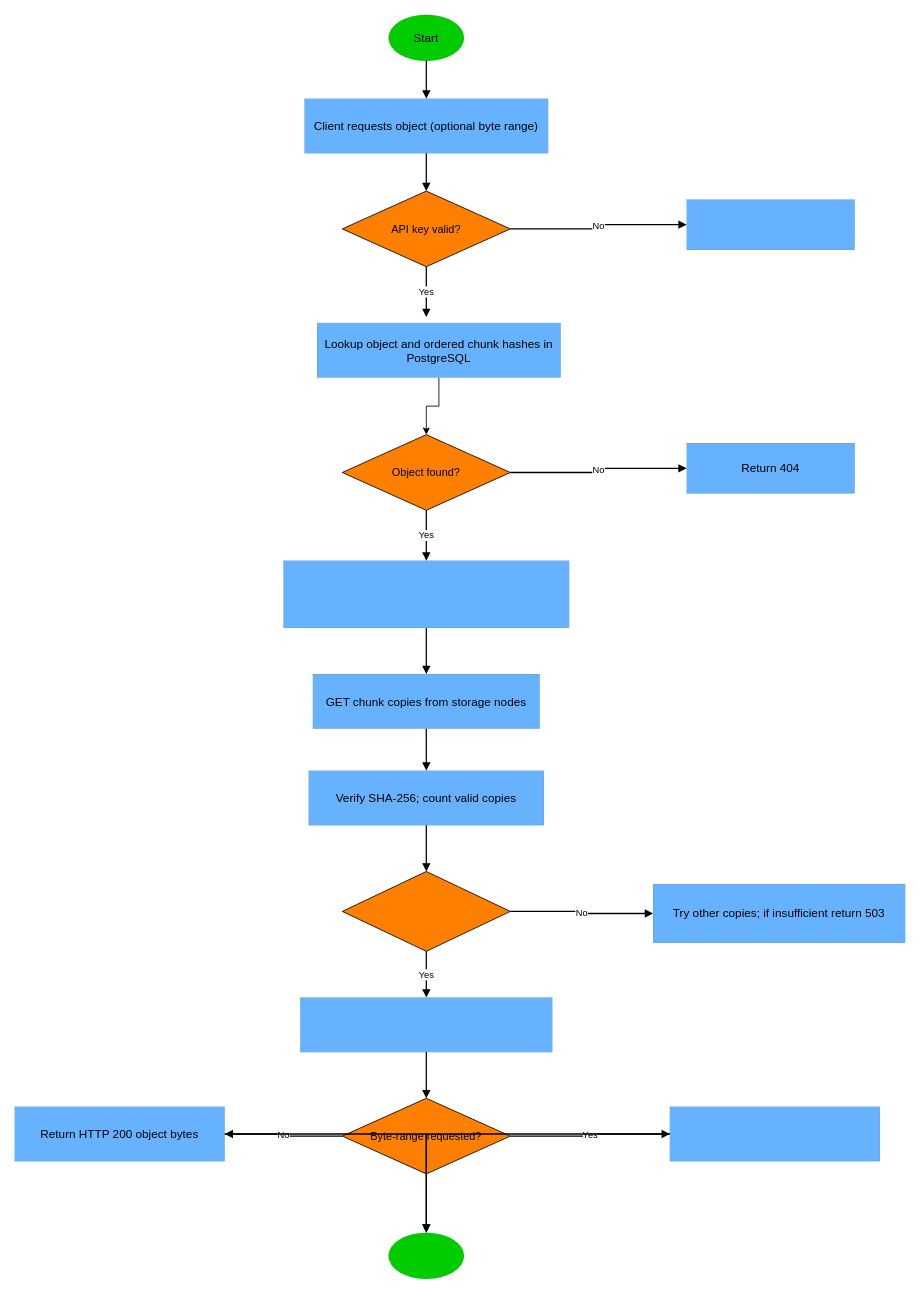
The diagram is 919 pixels wide and 1293 high, and some of its shapes have lost their labels. Each missing label, with the centre of its shape:
End: the point at 426,1255
Read quorum of 2 reached?: the point at 425,911
Return 401: the point at 770,224
Return HTTP 206 selected bytes: the point at 774,1133
Select healthy target nodes; also search other surviving nodes: the point at 426,593
Stream verified chunks in stored order: the point at 426,1024
